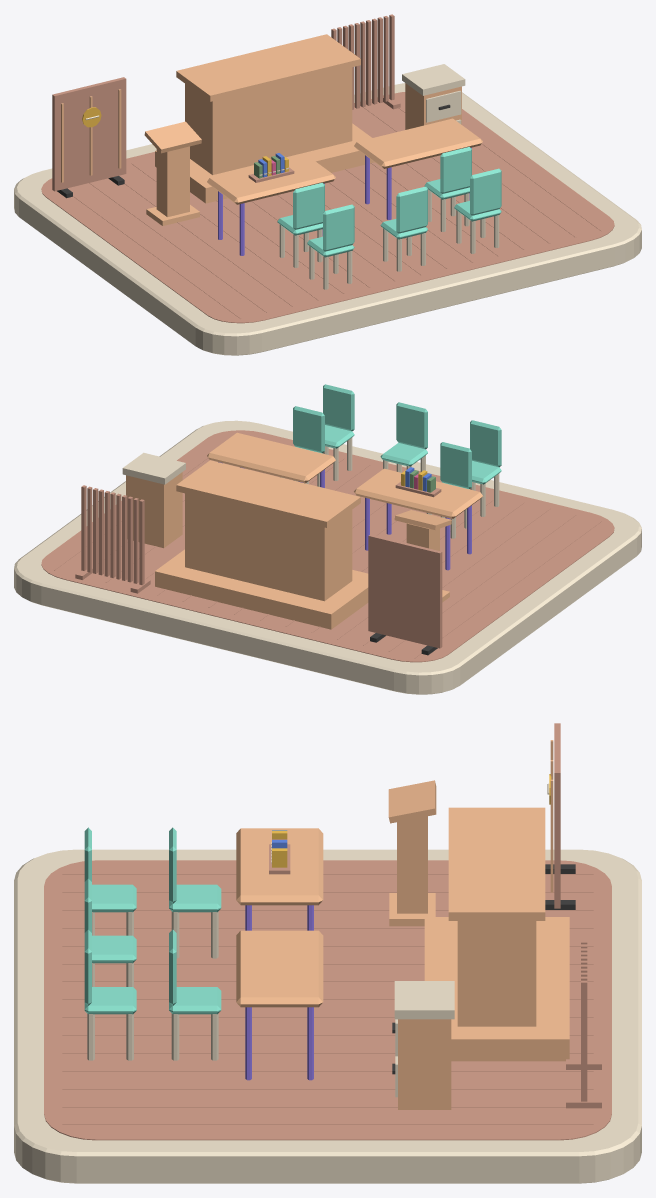
The picture shows the model from 3 angles, top to bottom: view 1: azimuth 30°, elevation 25°; view 2: azimuth 150°, elevation 25°; view 3: azimuth 270°, elevation 25°; orthographic projection. The views are drawn at different scales.
Parts seen in each view (by area): view 1: COM-02 Floor Surface, COM-01 Rounded Base Direct, Bench, Panel, Top, Rounded table top.001, Rounded table top, Platform, Body, Top.001, Backrest.002, Backrest.003 (+13 smaller); view 2: COM-02 Floor Surface, COM-01 Rounded Base Direct, Bench, Panel, Platform, Top, Rounded table top.001, Body.001, Rounded table top, Top.001, Backrest, Backrest.001 (+19 smaller); view 3: COM-02 Floor Surface, COM-01 Rounded Base Direct, Top, Platform, Bench, Rounded table top.001, Rounded table top, Body.001, Body, Top.001, Reading top, Seat (+11 smaller).
Part boxes in pixels (x1=…): COM-02 Floor Surface: x1=41, y1=92, x2=614, y2=323; COM-01 Rounded Base Direct: x1=14, y1=83, x2=641, y2=355; Bench: x1=185, y1=67, x2=352, y2=174; Panel: x1=52, y1=77, x2=126, y2=191; Top: x1=176, y1=34, x2=360, y2=101; Rounded table top.001: x1=354, y1=118, x2=482, y2=168; Rounded table top: x1=207, y1=154, x2=335, y2=204; Platform: x1=155, y1=123, x2=374, y2=203; Body: x1=156, y1=146, x2=189, y2=217; Top.001: x1=402, y1=64, x2=465, y2=95; Backrest.002: x1=323, y1=204, x2=354, y2=251; Backrest.003: x1=396, y1=186, x2=427, y2=233; COM-02 Floor Surface: x1=41, y1=430, x2=614, y2=662; COM-01 Rounded Base Direct: x1=14, y1=420, x2=641, y2=694; Bench: x1=185, y1=493, x2=352, y2=601; Panel: x1=368, y1=534, x2=442, y2=648; Platform: x1=155, y1=549, x2=368, y2=629; Top: x1=176, y1=460, x2=360, y2=527; Rounded table top.001: x1=207, y1=432, x2=335, y2=483; Body.001: x1=126, y1=472, x2=182, y2=548; Rounded table top: x1=354, y1=468, x2=482, y2=518; Top.001: x1=122, y1=452, x2=185, y2=484; Backrest: x1=440, y1=442, x2=471, y2=488; Backrest.001: x1=293, y1=406, x2=324, y2=453; COM-02 Floor Surface: x1=44, y1=860, x2=611, y2=1140; COM-01 Rounded Base Direct: x1=14, y1=849, x2=641, y2=1183; Top: x1=448, y1=807, x2=545, y2=920; Platform: x1=424, y1=917, x2=569, y2=1061; Bench: x1=457, y1=921, x2=536, y2=1026; Rounded table top.001: x1=236, y1=930, x2=323, y2=1007; Rounded table top: x1=236, y1=828, x2=323, y2=905; Body.001: x1=398, y1=1019, x2=451, y2=1109; Body: x1=397, y1=816, x2=427, y2=913; Top.001: x1=394, y1=981, x2=454, y2=1019; Reading top: x1=388, y1=780, x2=436, y2=823; Seat: x1=169, y1=884, x2=221, y2=912.
Size of the model in its own units: 6 by 1.59 by 5.2.
Materials: 1 (1 with a texture image).
